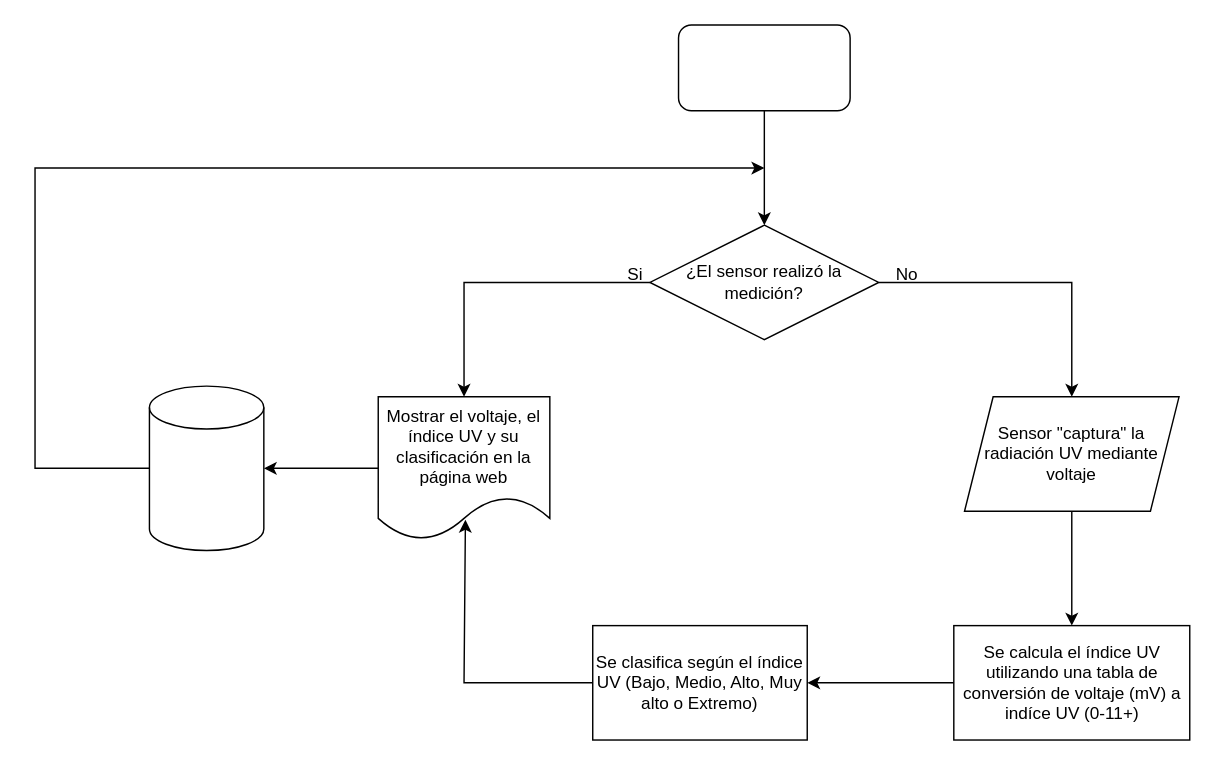
This 1216x765 diagram has some shape labels left out. Each missing label, with the box of its shape:
Almacenar los datos en Firebase: (148, 385, 264, 551)
Comienzo: (677, 24, 850, 111)
